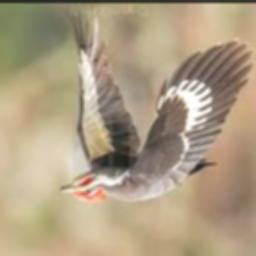Woodpecker: (59, 16, 253, 202)
